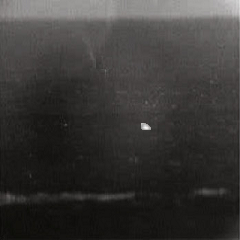Target: (139, 122, 152, 132)
